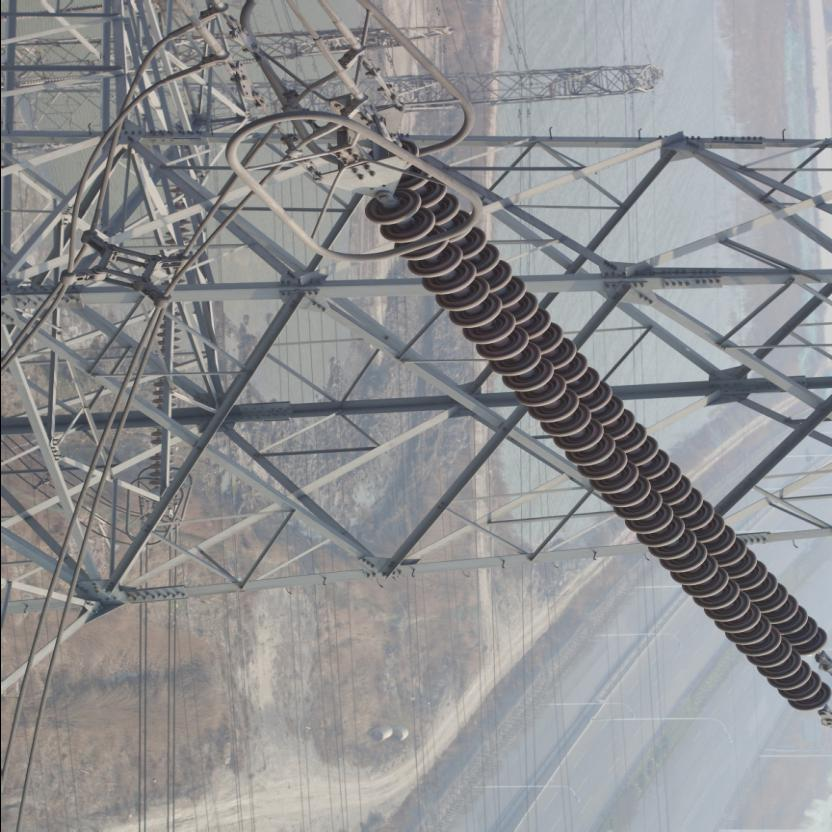insulator: (363, 135, 831, 734)
